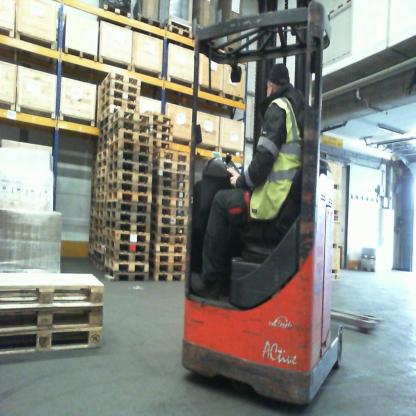forklift: (185, 3, 366, 407)
pallet: (0, 267, 103, 306), (1, 324, 107, 358), (0, 306, 104, 330), (99, 67, 143, 90), (163, 21, 195, 51), (99, 88, 141, 110), (102, 246, 147, 265), (109, 159, 152, 178), (128, 13, 164, 35), (98, 3, 131, 26), (104, 257, 150, 272), (99, 97, 139, 114), (111, 129, 153, 145), (103, 267, 149, 281), (100, 80, 140, 96), (106, 209, 150, 223), (109, 121, 150, 136), (106, 240, 148, 254), (106, 230, 148, 244), (108, 170, 153, 183), (109, 180, 150, 194), (111, 110, 152, 124), (106, 200, 150, 213), (109, 150, 153, 163), (149, 260, 187, 274), (106, 220, 150, 232), (147, 213, 188, 225), (107, 141, 151, 152), (152, 195, 189, 208), (110, 192, 150, 204), (152, 203, 186, 217), (152, 149, 186, 162), (145, 108, 170, 125), (151, 176, 189, 187), (151, 188, 189, 199), (149, 233, 186, 244), (148, 243, 185, 254), (151, 272, 187, 283), (148, 224, 185, 234), (152, 170, 188, 180), (152, 160, 187, 170), (152, 131, 172, 148), (150, 254, 186, 262), (152, 122, 172, 134), (358, 267, 377, 278), (99, 118, 113, 130), (98, 127, 112, 139), (96, 158, 111, 169), (101, 108, 113, 121), (96, 151, 110, 161), (98, 132, 109, 144), (97, 142, 109, 153), (95, 176, 108, 186), (94, 251, 103, 265), (94, 207, 105, 218), (94, 241, 104, 253), (96, 191, 106, 201), (94, 234, 103, 244), (95, 201, 106, 209), (95, 218, 103, 228), (96, 169, 107, 176), (96, 223, 103, 234), (95, 260, 102, 270), (95, 185, 106, 191)
